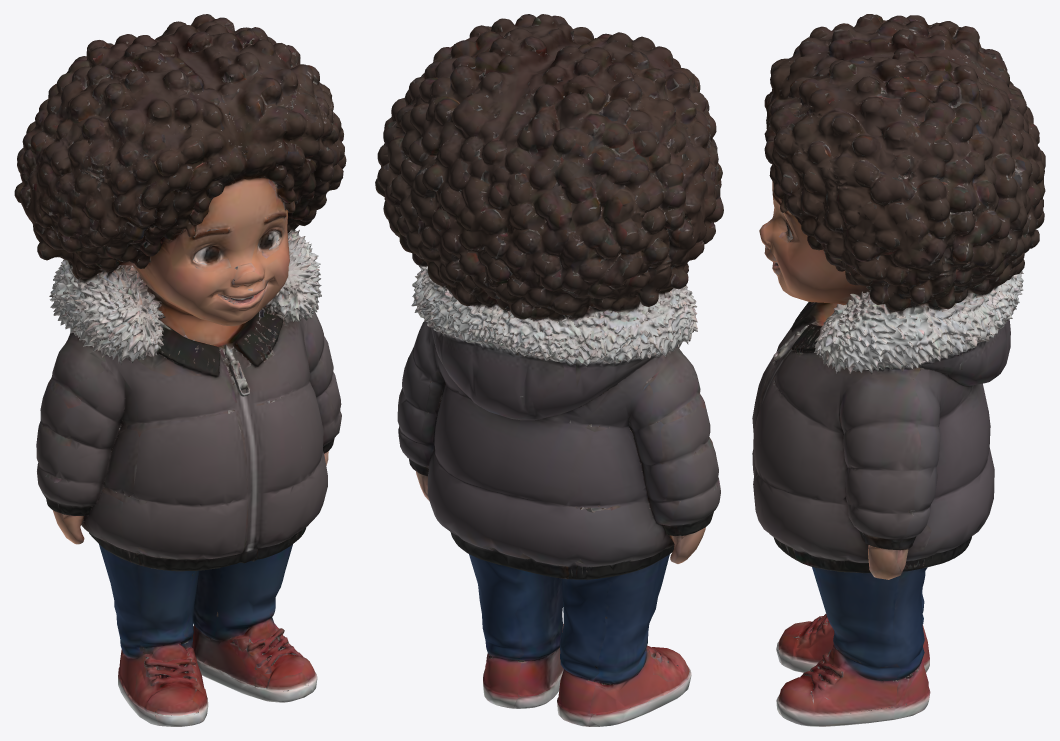
Rendered from boy.glb.
The picture shows the model from 3 angles, left to right: view 1: azimuth 30°, elevation 25°; view 2: azimuth 150°, elevation 25°; view 3: azimuth 270°, elevation 25°; orthographic projection. The views are drawn at different scales.
Size of the model in its own units: 0.4837 by 0.9992 by 0.4096.
Materials: 1 (1 with a texture image).
